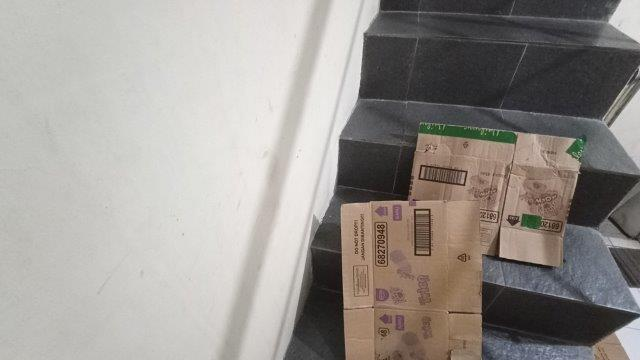kardus: (410, 125, 582, 266), (341, 203, 480, 359)
